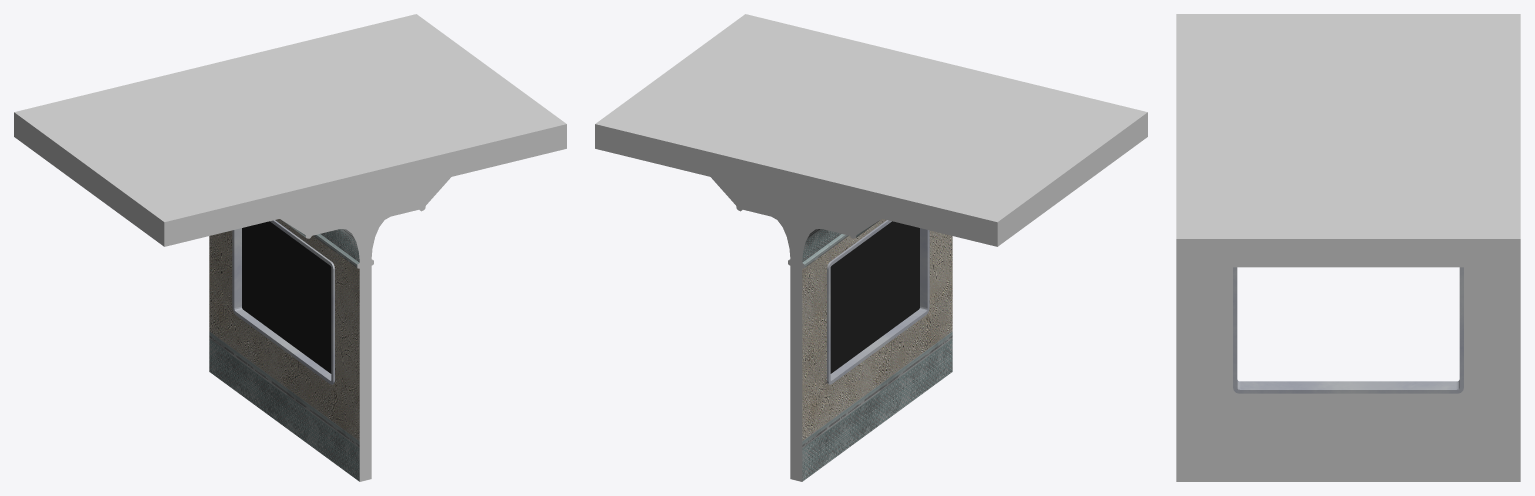
The model's file is Wall_OneWindow.fbx.
3 renders of one model, left to right at view 1: azimuth 30°, elevation 25°; view 2: azimuth 150°, elevation 25°; view 3: azimuth 270°, elevation 25°, orthographic. The views are drawn at different scales.
Visible parts, largest first — view 1: polySurface1, Glass, Wall_OneWindow1; view 2: polySurface1, Glass, Wall_OneWindow1; view 3: polySurface1, Wall_OneWindow1.
Boxes of the visible parts, x1=… form: polySurface1: x1=14, y1=14, x2=566, y2=481; Glass: x1=242, y1=221, x2=331, y2=373; Wall_OneWindow1: x1=232, y1=220, x2=334, y2=384; polySurface1: x1=595, y1=14, x2=1147, y2=481; Glass: x1=830, y1=221, x2=919, y2=373; Wall_OneWindow1: x1=827, y1=220, x2=929, y2=384; polySurface1: x1=1176, y1=14, x2=1520, y2=481; Wall_OneWindow1: x1=1233, y1=267, x2=1463, y2=393.
Size of the model in its own units: 618 by 451 by 400.
Materials: 5 (3 with a texture image).
